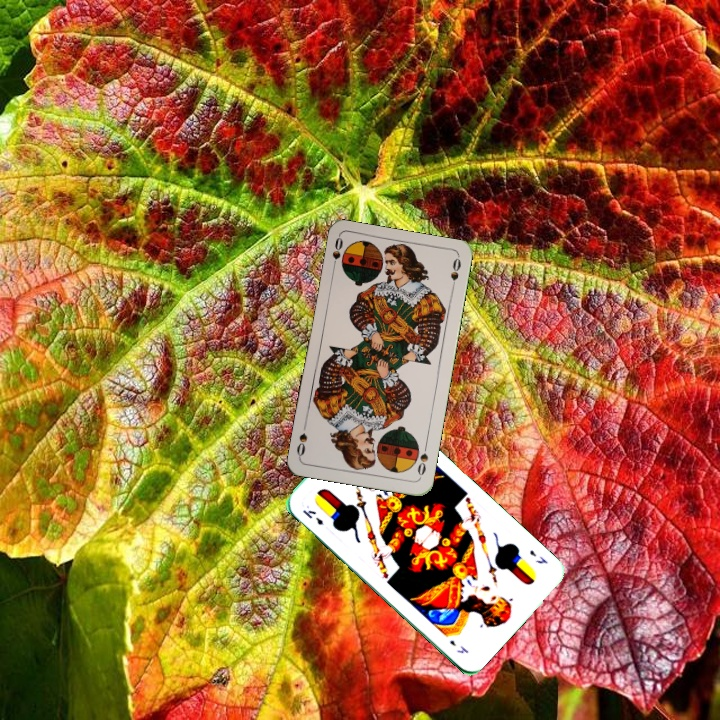EK: (299, 506, 326, 528), (526, 546, 550, 567)
SO: (328, 234, 346, 274), (413, 440, 431, 478)
